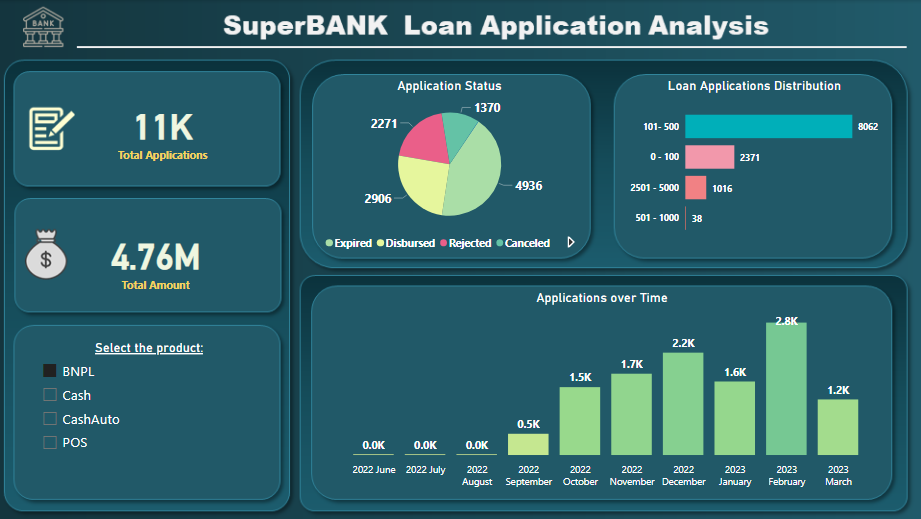

Layout of this report page (visuals, bound fields, positions):
{"tool":"powerbi","page":{"name":"Loans by Products","canvas":[1280,720],"ordinal":2},"visuals":[{"type":"slicer","title":"Select the product:","fields":{"Values":["Dataset.Product"]},"box":[47.2,471.7,319.1,199.8],"z":0},{"type":"lineStackedColumnComboChart","title":"Applications over Time","fields":{"Category":["Dataset.Timestamp.Variation.Date Hierarchy.Year","Dataset.Timestamp.Variation.Date Hierarchy.Month"],"Y":["Dataset.Total Applications"]},"box":[445.3,402.3,779.7,281.6],"z":1000},{"type":"clusteredBarChart","title":"Loan Applications Distribution ","fields":{"Category":["Dataset.AMount Category"],"Y":["CountNonNull(Dataset.Application ID)"]},"box":[868.4,108.2,356.5,234.5],"z":2000},{"type":"card","fields":{"Values":["Dataset.Total Applications"]},"box":[94.3,127.6,262.2,105.4],"z":3000},{"type":"pieChart","title":"Application Status","fields":{"Y":["CountNonNull(Dataset.Application ID)"],"Category":["Dataset.Status"]},"box":[445.3,108.2,356.5,248.3],"z":4000},{"type":"card","fields":{"Values":["Sum(Dataset.Amount)"]},"box":[94.3,305.2,242.8,109.6],"z":5000}]}

Visuals, with their boxes in screenshot pixels (x1, y1, x2, y2), scaled from the page's 1280x720 canvas onto the 921x519 screenshot:
"Select the product:" slicer: pyautogui.locateOnScreen(34, 340, 264, 484)
"Applications over Time" lineStackedColumnComboChart: pyautogui.locateOnScreen(320, 290, 881, 493)
"Loan Applications Distribution " clusteredBarChart: pyautogui.locateOnScreen(625, 78, 881, 247)
card - Dataset.Total Applications: pyautogui.locateOnScreen(68, 92, 257, 168)
"Application Status" pieChart: pyautogui.locateOnScreen(320, 78, 577, 257)
card - Sum(Dataset.Amount): pyautogui.locateOnScreen(68, 220, 243, 299)
